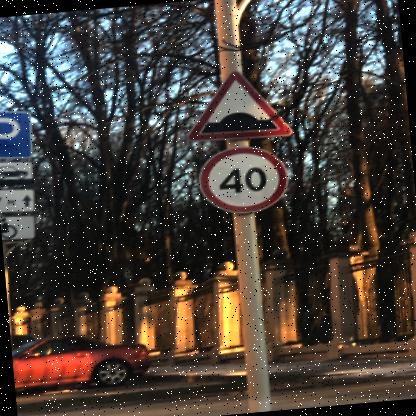speedlimit: (194, 141, 288, 216)
